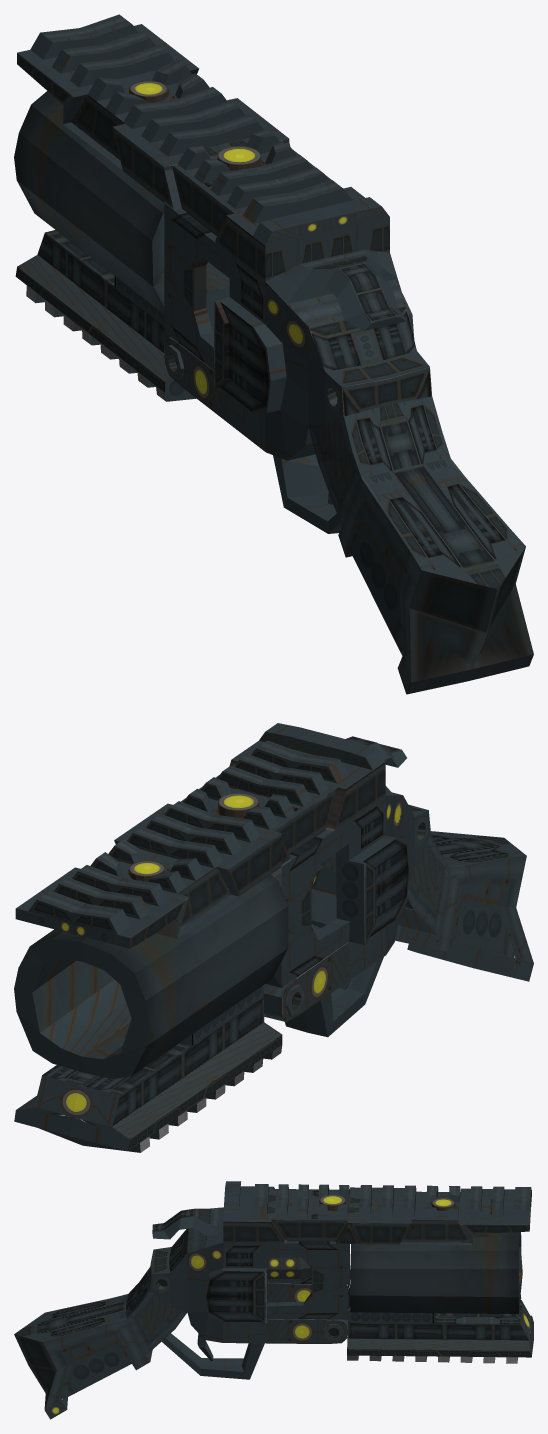
The model's file is Grenade Launcher 2.fbx.
3 views of the same model, one above another, from view 1: azimuth 30°, elevation 25°; view 2: azimuth 150°, elevation 25°; view 3: azimuth 270°, elevation 25° (orthographic). The views are drawn at different scales.
Parts seen in each view (by area): view 1: Cube; view 2: Cube; view 3: Cube.
Part boxes in pixels (bbox=[...]): Cube: bbox=[14, 14, 533, 694]; Cube: bbox=[14, 723, 533, 1152]; Cube: bbox=[14, 1181, 533, 1419].
Bounding box in the file's own units: 194 × 410 × 919.
